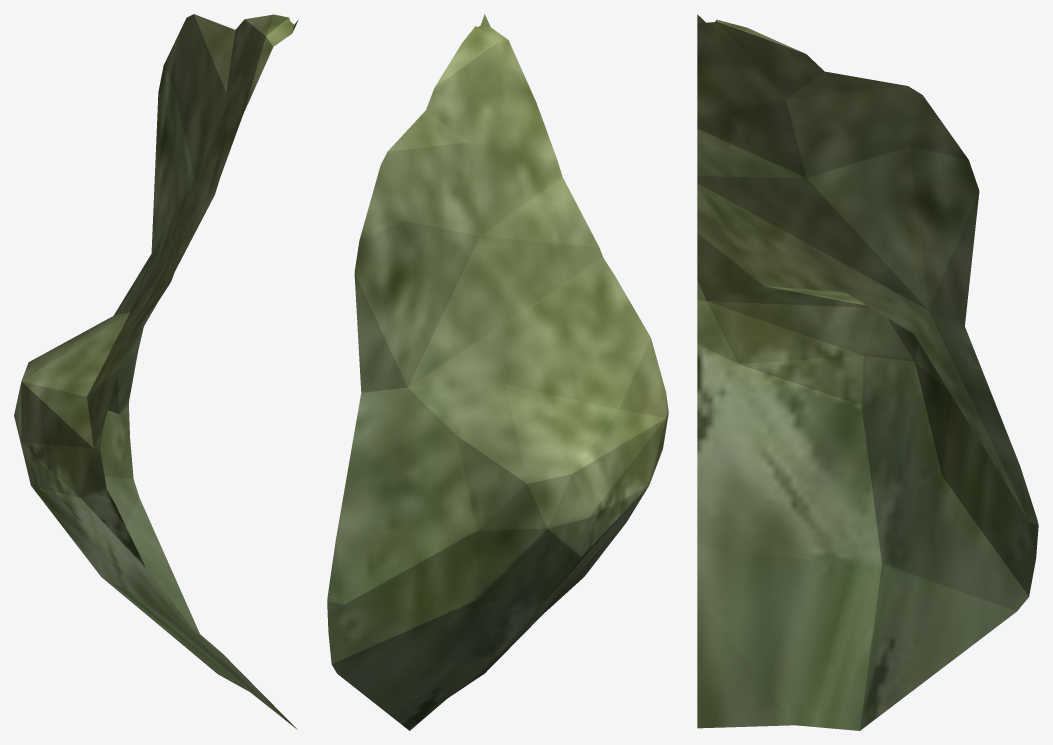
The picture shows the model from 3 angles, left to right: view 1: azimuth 30°, elevation 25°; view 2: azimuth 150°, elevation 25°; view 3: azimuth 270°, elevation 25°; orthographic projection. The views are drawn at different scales.
Bounding box in the file's own units: 0.4228 × 1.44 × 0.6215.
1 material, 1 textured.
